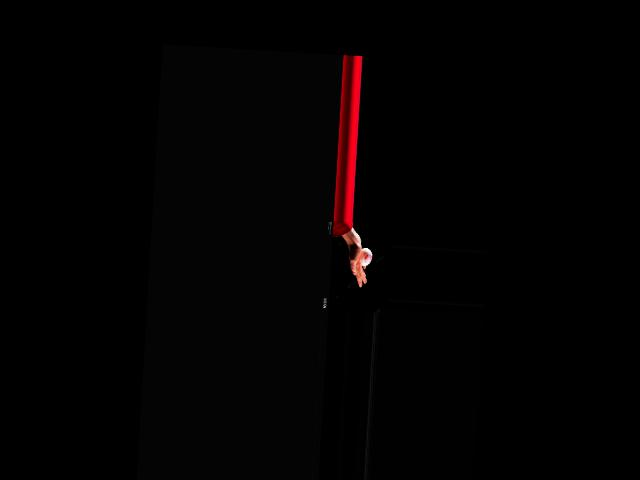egg: (359, 247, 372, 265)
